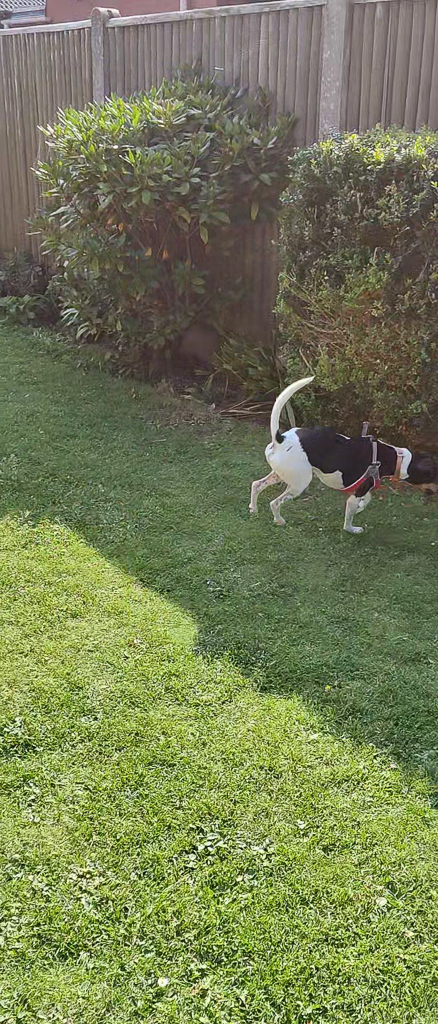Dog: (238, 364, 438, 558)
